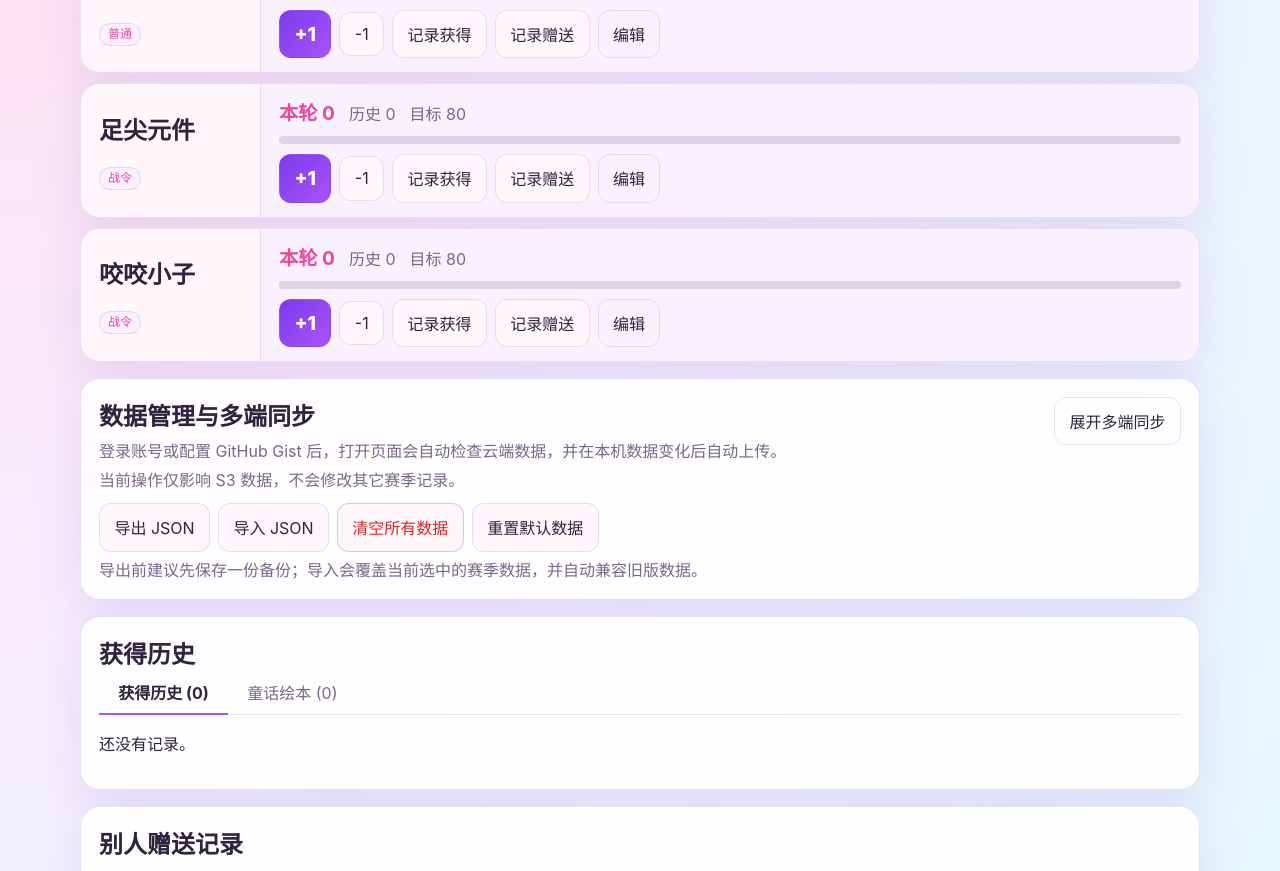
Scenario: App › ignores manual pull results after switching seasons
The image size is (1280, 871).
(page scrolled)
Click the button "展开多端同步": (1118,421) [1054, 397, 1181, 445]
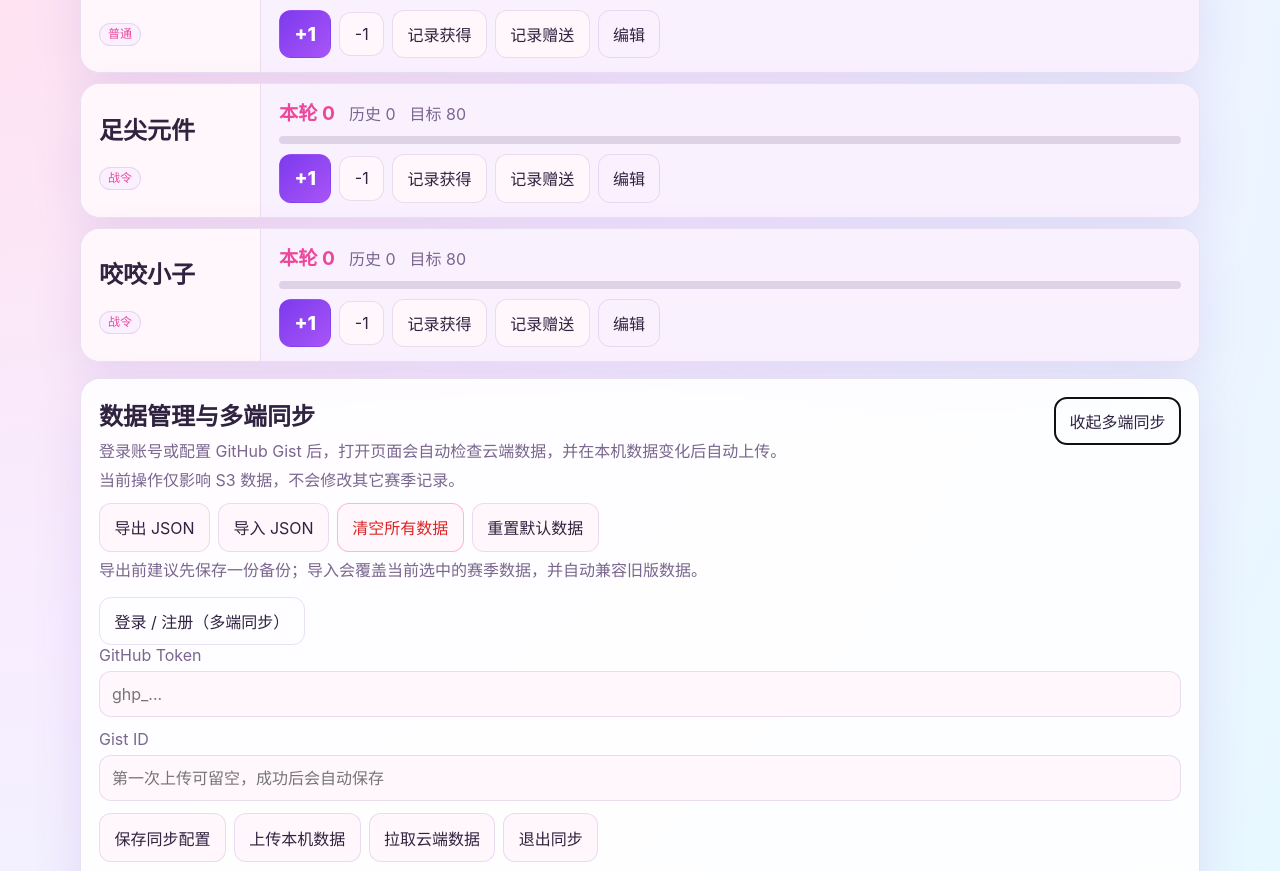
In the password field labelled "GitHub Token": (640,694) [99, 672, 1181, 718], type "token-1"
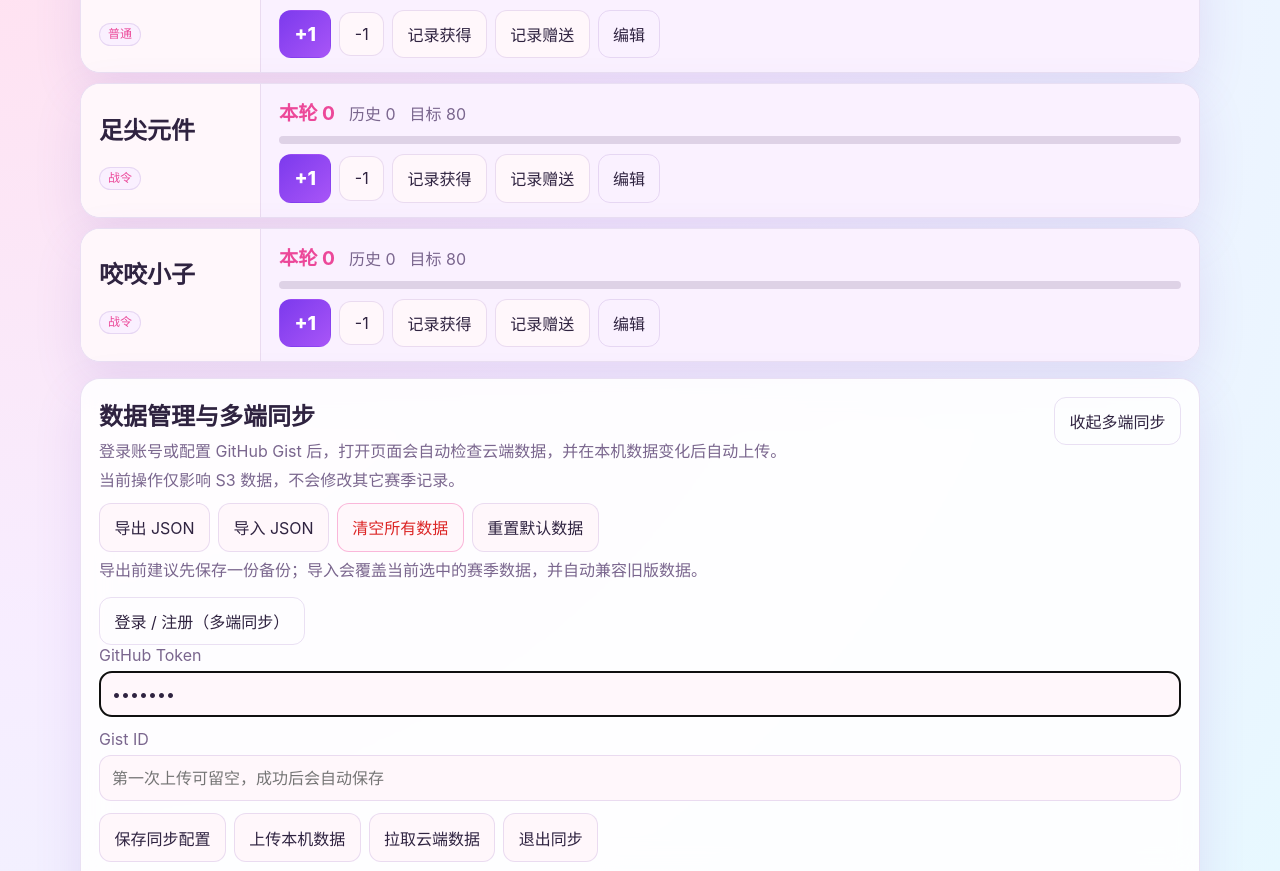
In the field labelled "Gist ID": (640,778) [99, 756, 1181, 802], type "gist-1"
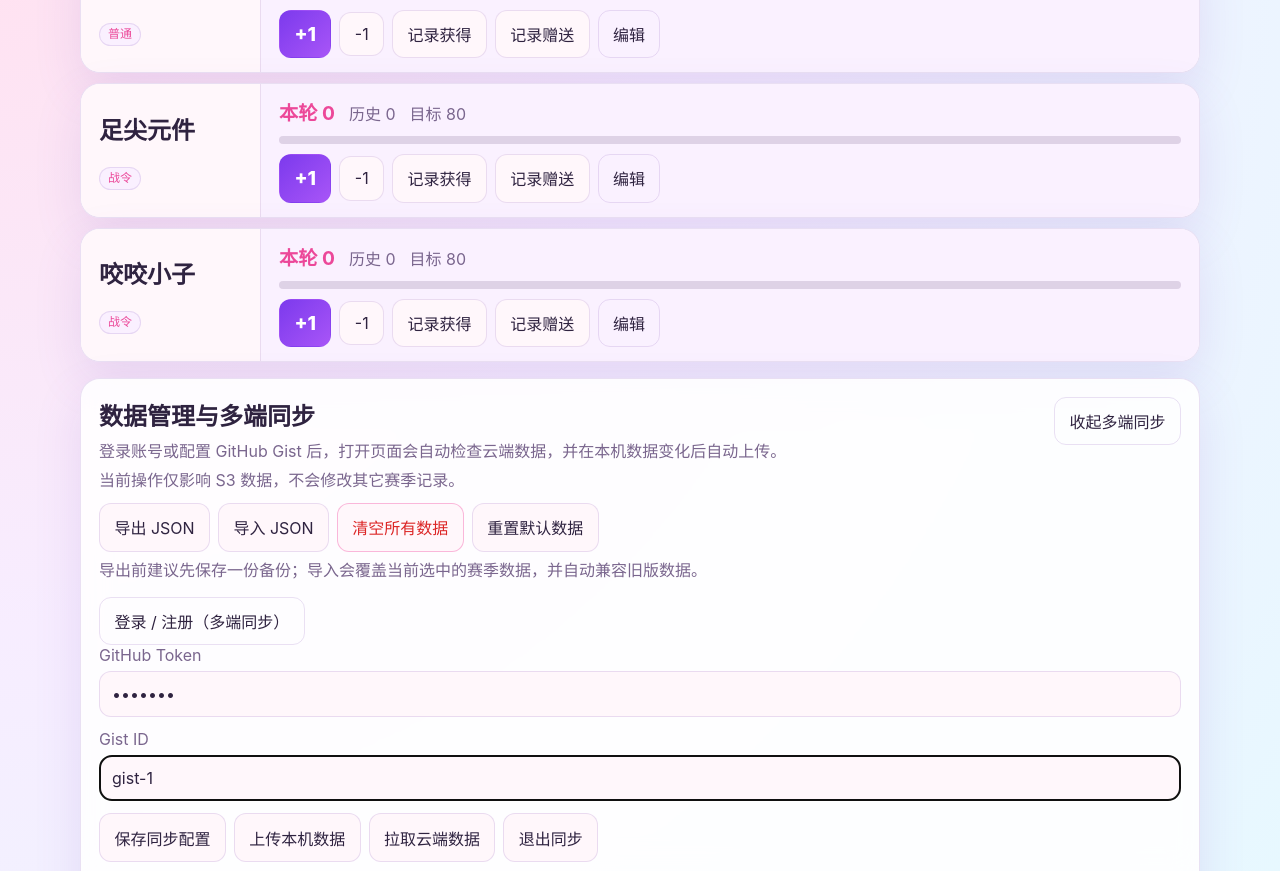
Click the button "拉取云端数据": (432,838) [369, 814, 495, 862]
(page scrolled)
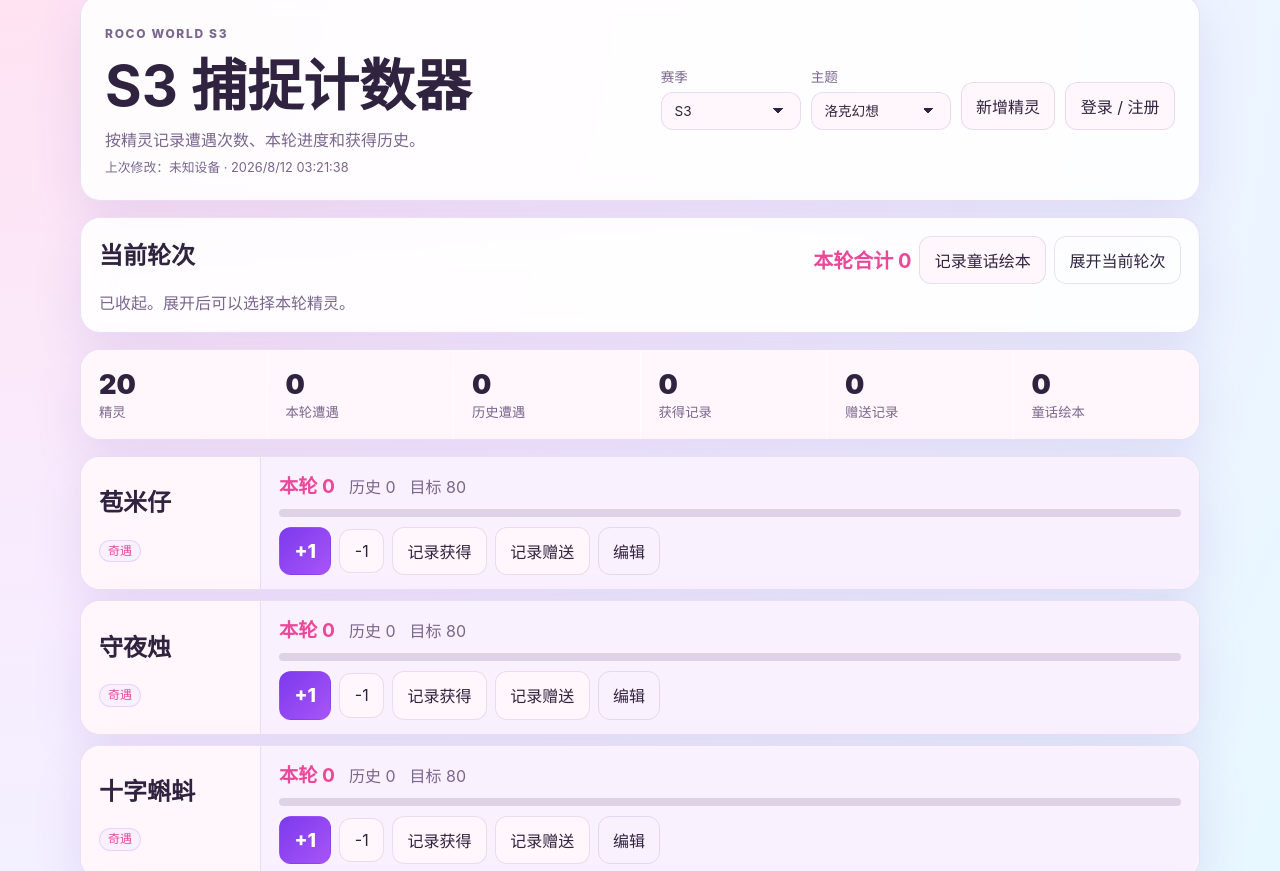
Select "S2" in the dropdown labelled "赛季": (731,111) [661, 92, 801, 130]
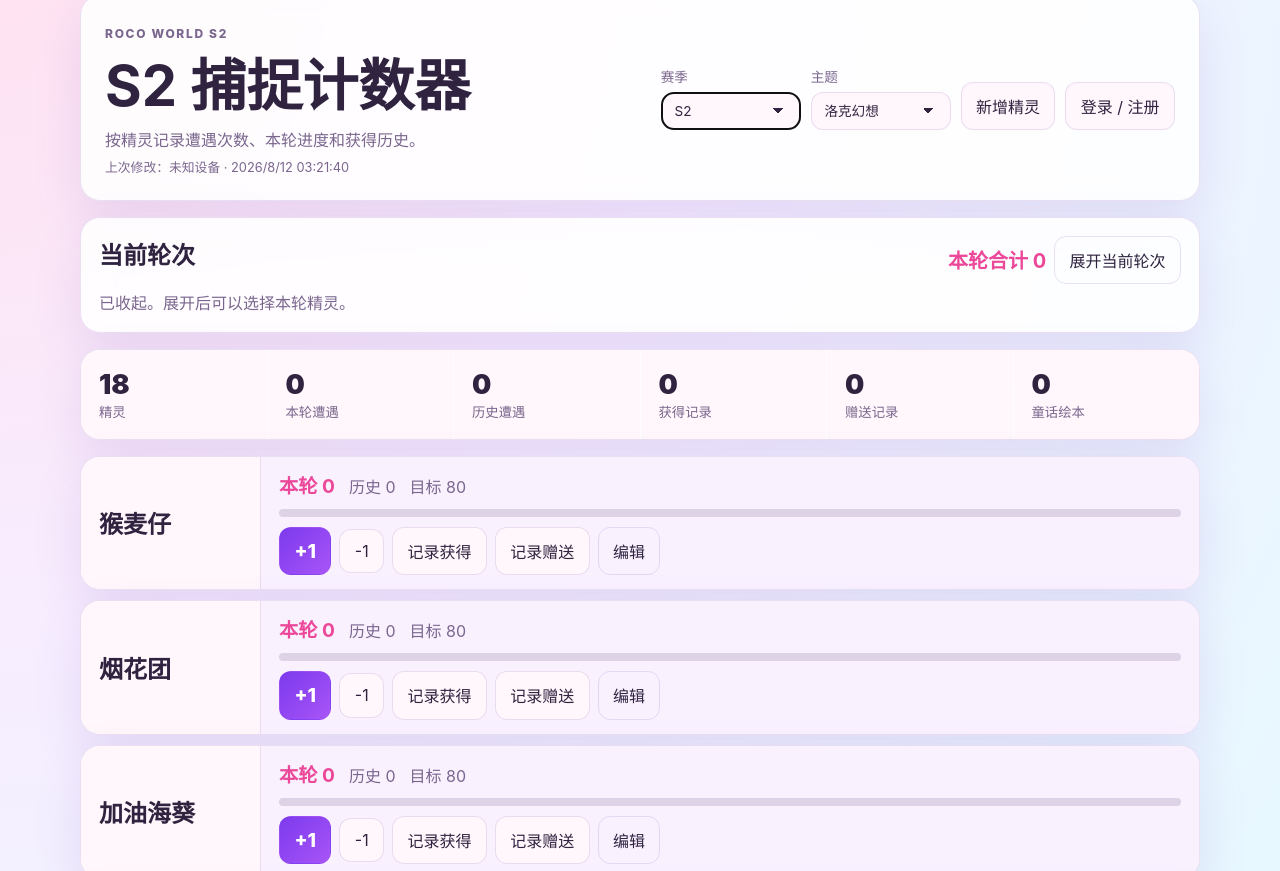
expect the list item "云端 S2" is not shown: met
expect the heading "S2 捕捉计数器" is shown: met, box [105, 41, 470, 122]
expect the list item "猴麦仔 本轮 0 历史 0 目标 80 +1 -1 记录获得 记录赠送 编辑" is shown: met, box [80, 456, 1200, 590]
